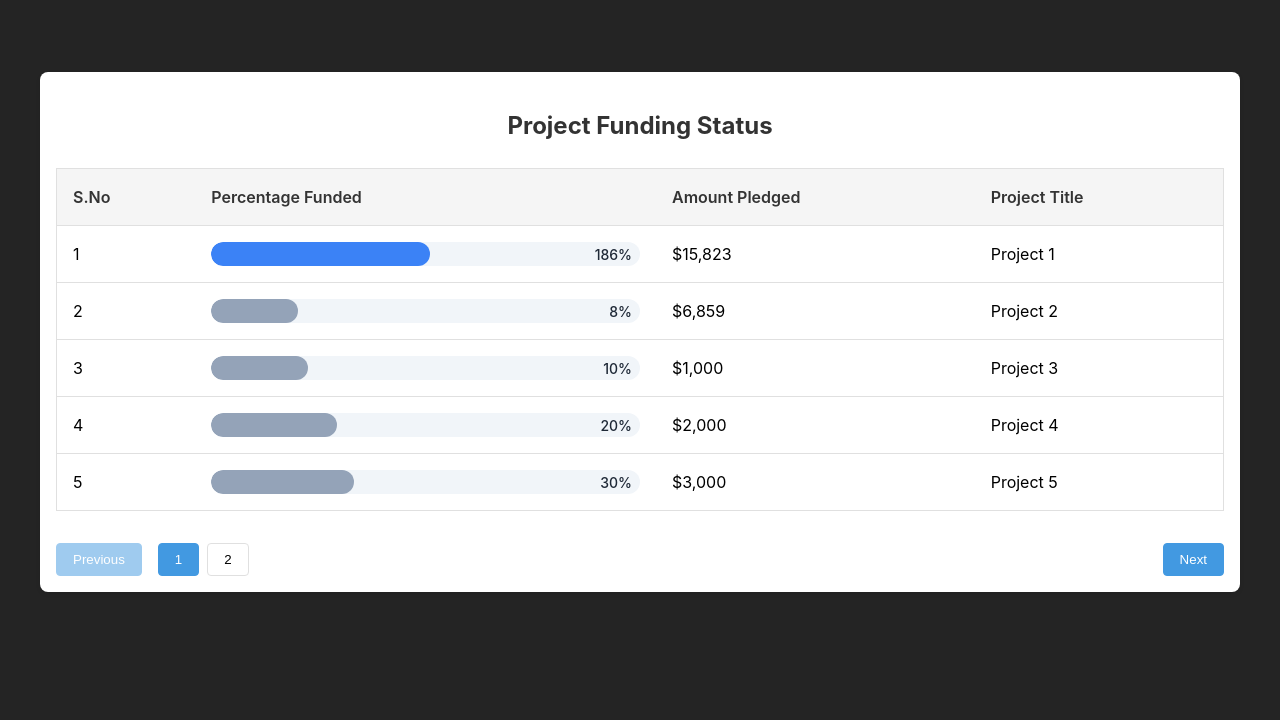
ProjectTable Component › Pagination › handles next page navigation
The width and height of the screenshot is (1280, 720).
Expected: the text "Project 1" is shown, 975,225 -> 1224,282
Click the button "Next": (1193, 559) 1163,543 -> 1224,576
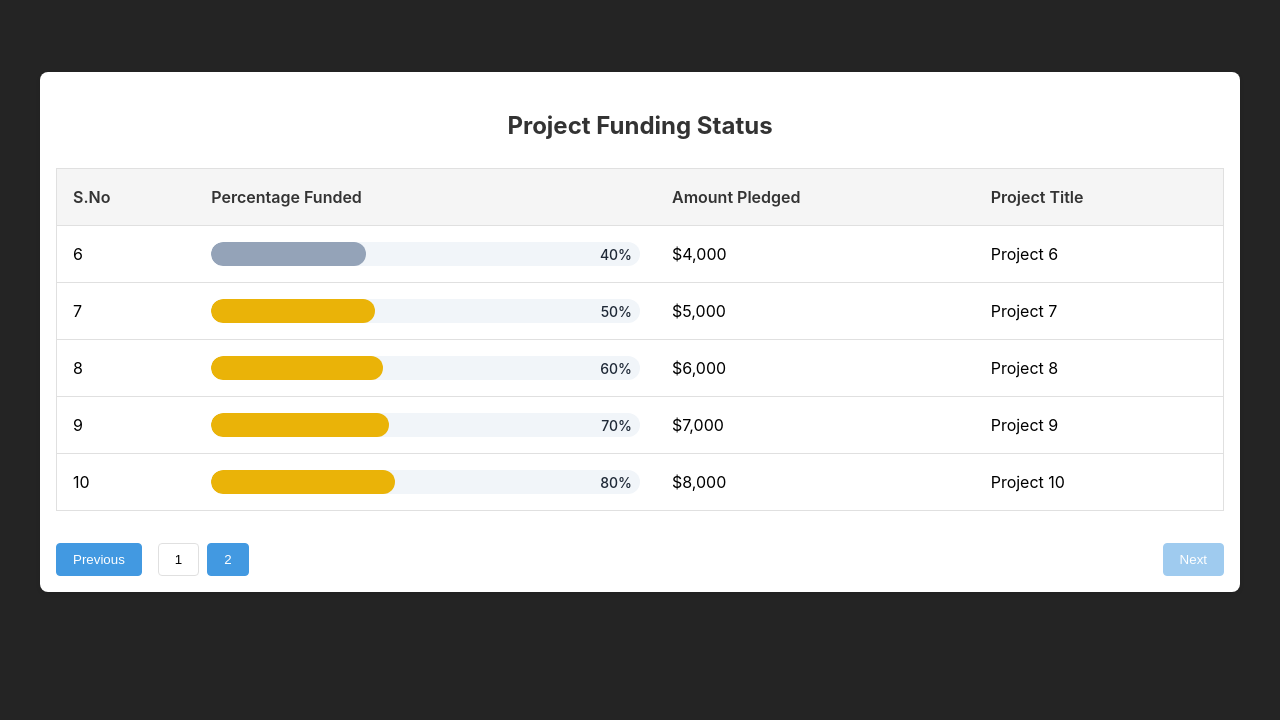
Result: the text "Project 6" is shown at 975,225 -> 1224,282
